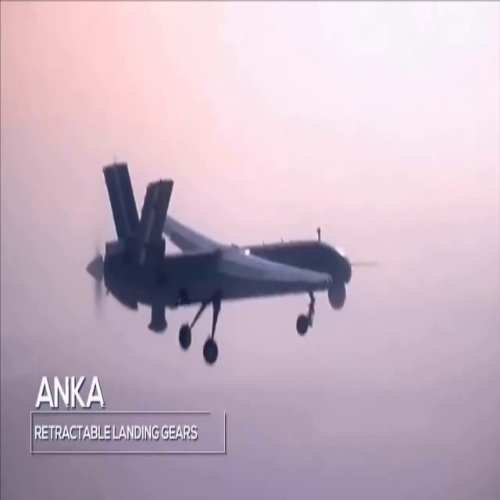uav776: (80, 157, 363, 364)
